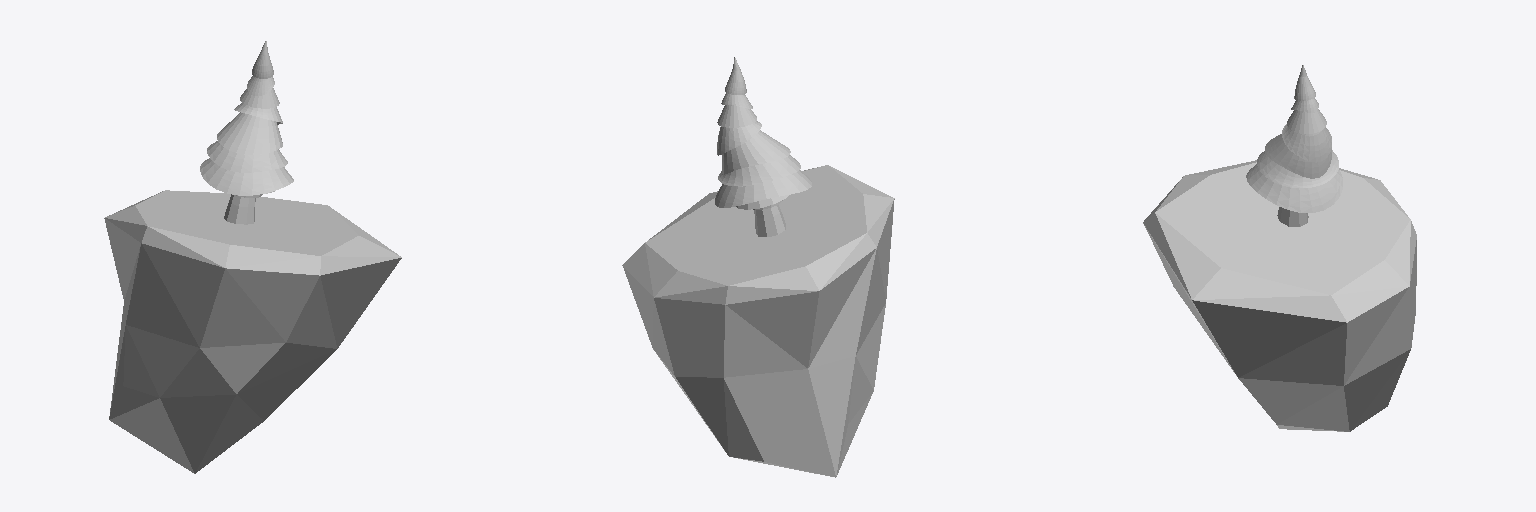
File: Floating_Island_Group_2.obj
3 views of the same model, side by side, from view 1: azimuth 30°, elevation 25°; view 2: azimuth 150°, elevation 25°; view 3: azimuth 270°, elevation 25° (orthographic).
Visible parts, largest first — view 1: Island, Cone126, Cone124, Cone125, Cylinder042; view 2: Island, Cone124, Cone126, Cone125, Cone127, Cylinder042, Cone128; view 3: Island, Cone124, Cone126, Cone125, Cone127, Cone128.
Boxes of the visible parts, x1=… form: Island: x1=104, y1=190, x2=401, y2=473; Cone126: x1=217, y1=112, x2=282, y2=154; Cone124: x1=200, y1=158, x2=293, y2=195; Cone125: x1=207, y1=141, x2=287, y2=172; Cylinder042: x1=224, y1=194, x2=255, y2=224; Island: x1=622, y1=165, x2=894, y2=477; Cone124: x1=715, y1=170, x2=811, y2=207; Cone126: x1=722, y1=130, x2=790, y2=174; Cone125: x1=718, y1=155, x2=800, y2=186; Cone127: x1=717, y1=121, x2=761, y2=155; Cylinder042: x1=754, y1=205, x2=785, y2=236; Cone128: x1=717, y1=105, x2=756, y2=127; Island: x1=1143, y1=160, x2=1416, y2=431; Cone124: x1=1246, y1=164, x2=1342, y2=212; Cone126: x1=1265, y1=134, x2=1331, y2=178; Cone125: x1=1257, y1=150, x2=1338, y2=187; Cone127: x1=1282, y1=124, x2=1331, y2=162; Cone128: x1=1287, y1=109, x2=1326, y2=133.
Bounding box in the file's own units: 33.93 × 58.87 × 36.03.